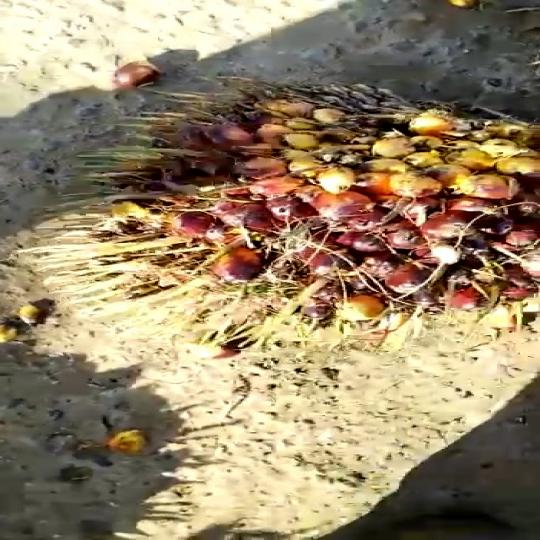masak: (84, 76, 540, 327)
